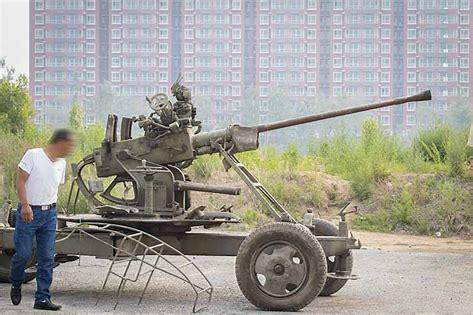MIL_SPG: (67, 78, 431, 310)
